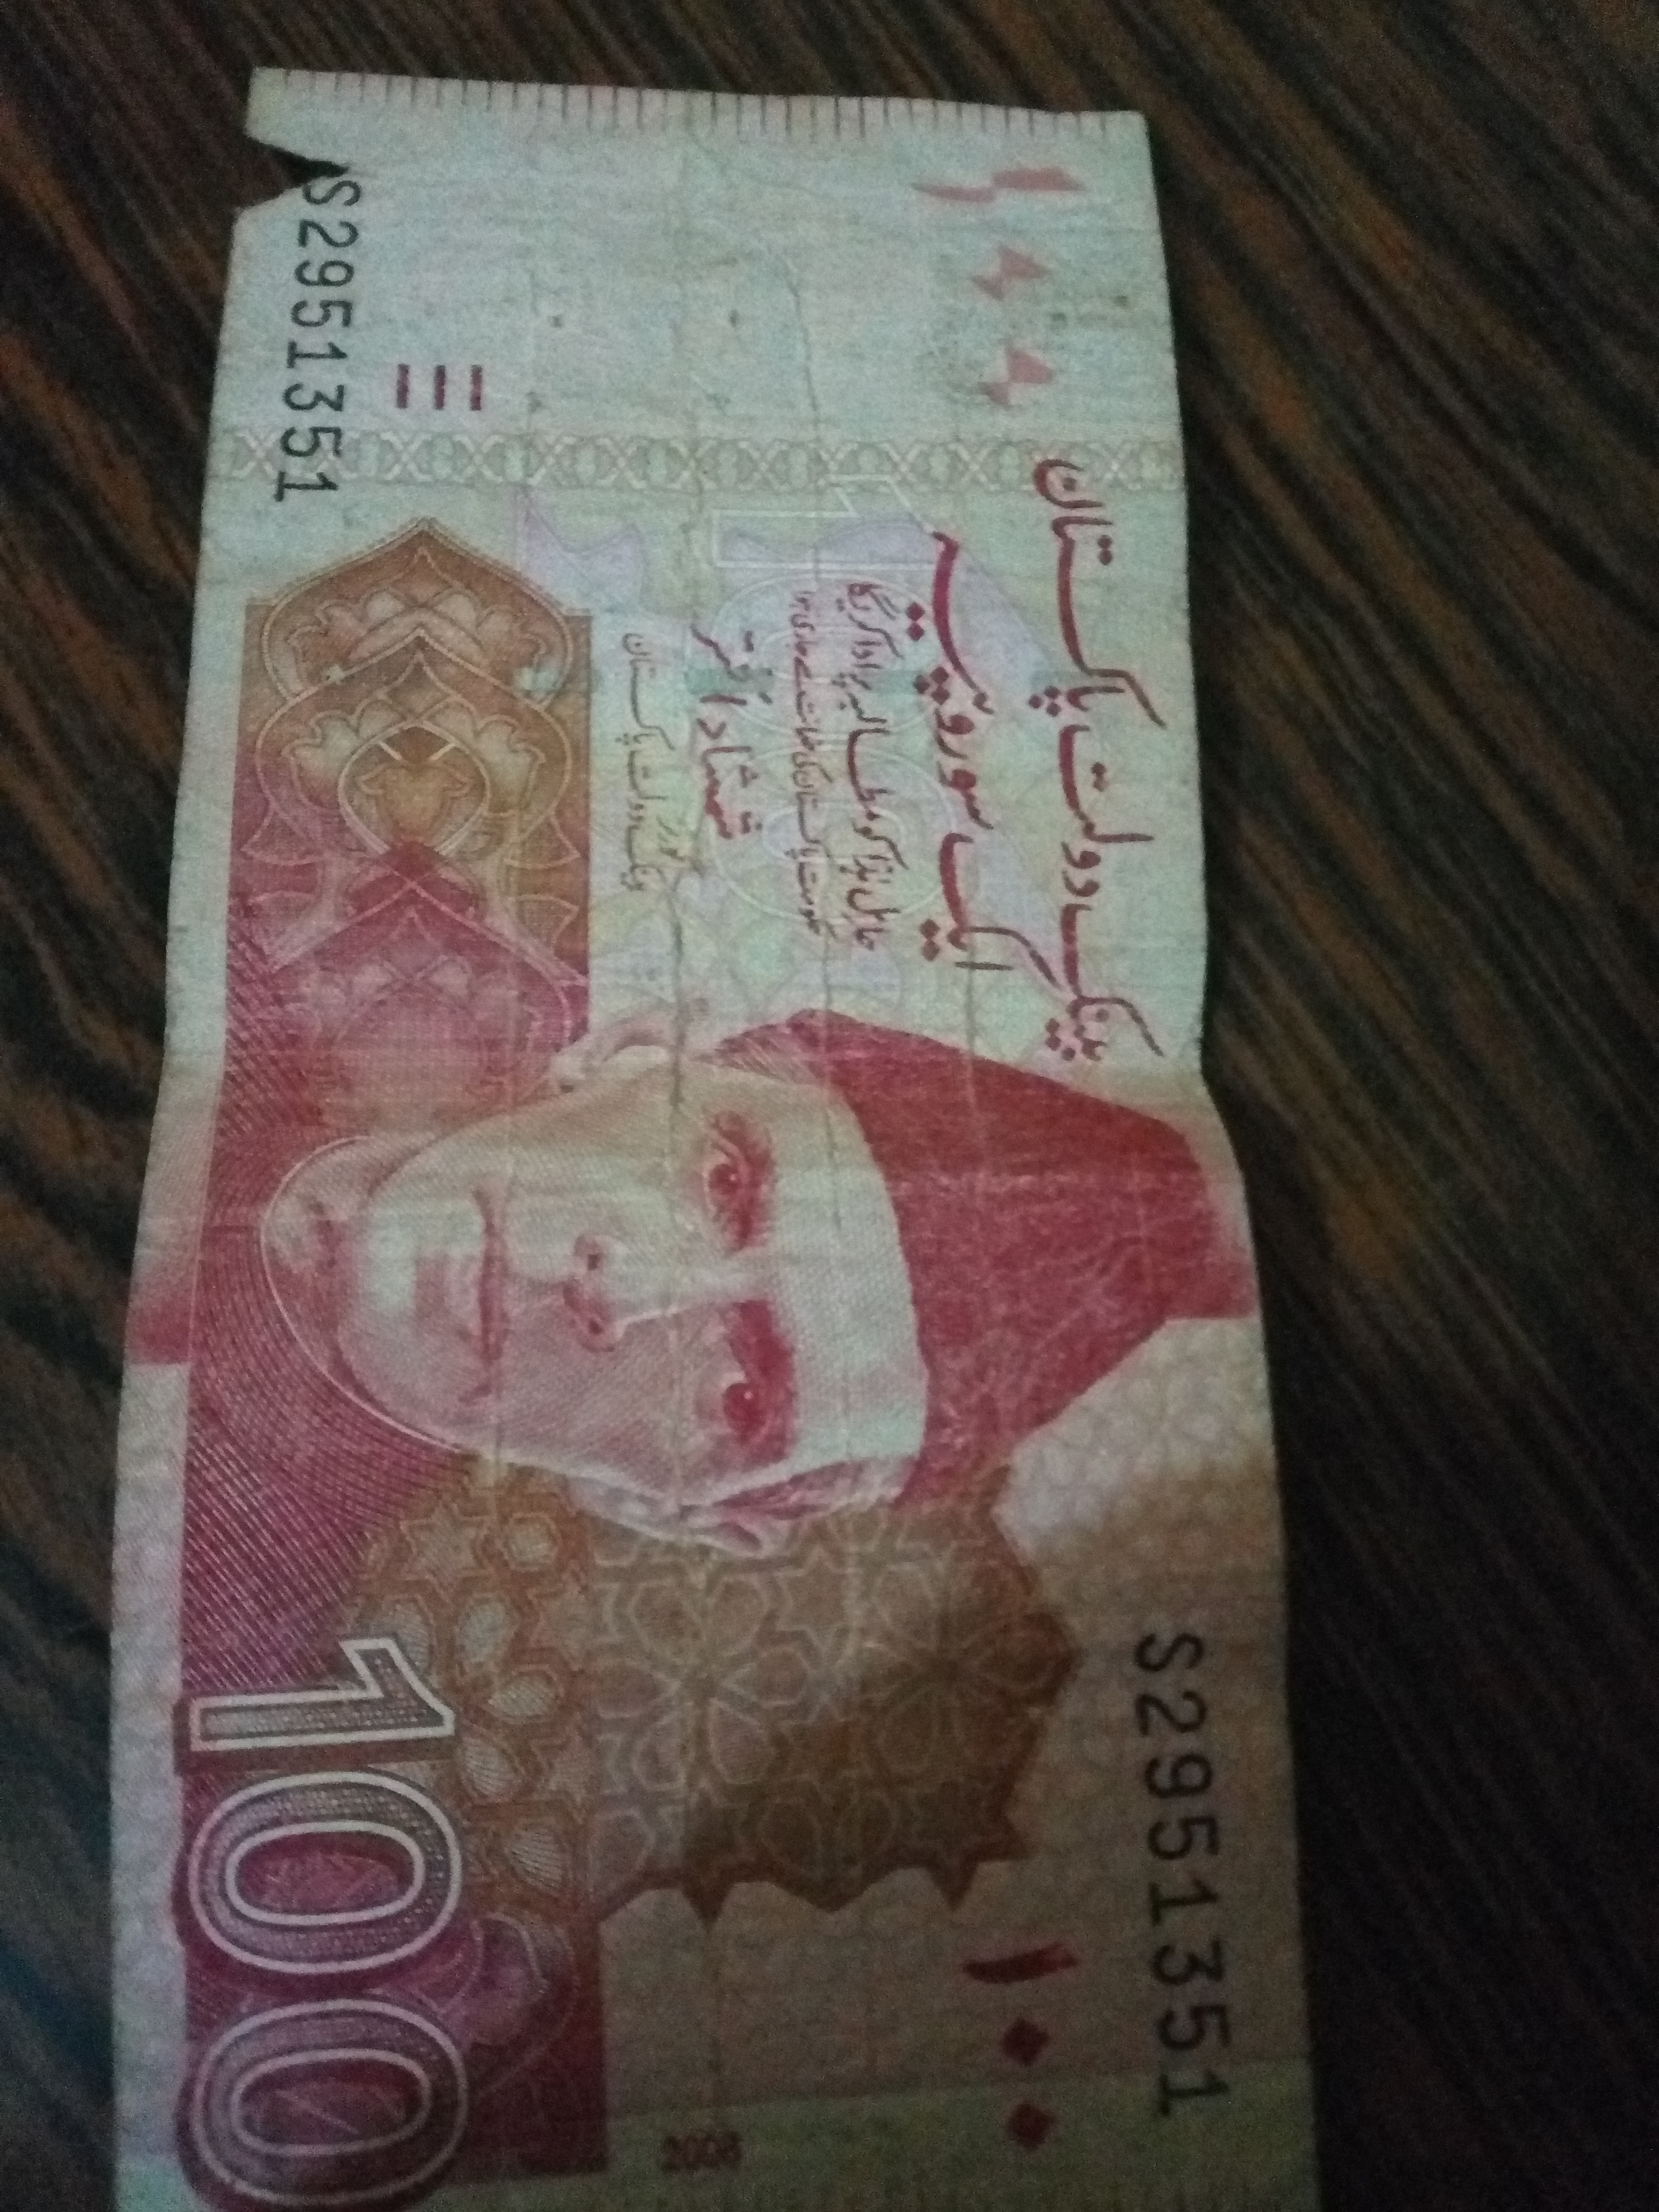100 rupee: (110, 61, 1328, 2207)
